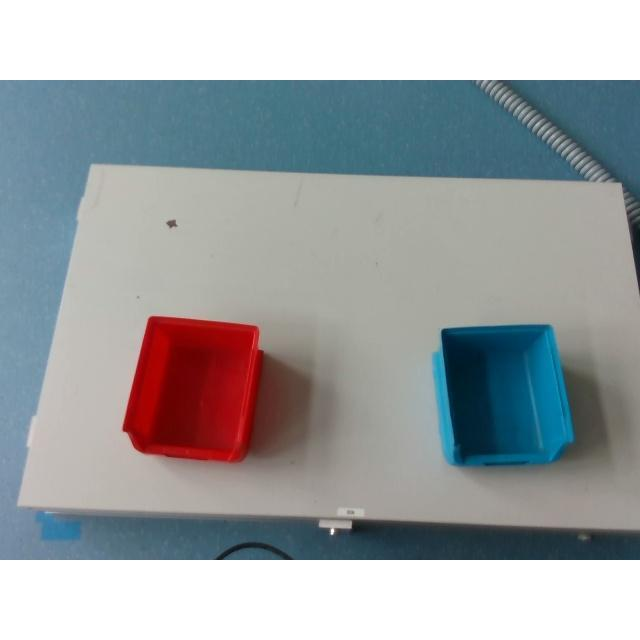container_box_blue: (432, 322, 576, 466)
container_box_red: (120, 316, 266, 462)
